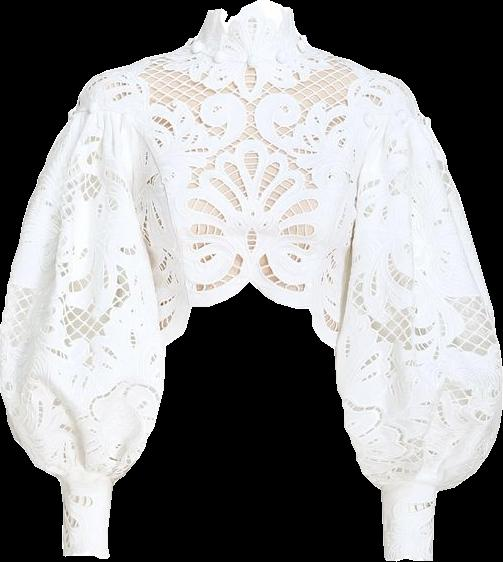Bodice: (74, 0, 418, 350)
Neckline: (205, 0, 291, 25)
Sleeve: (334, 109, 502, 561), (0, 107, 165, 558)
Sleeveline: (351, 104, 422, 226), (73, 103, 141, 228), (58, 471, 116, 486), (378, 478, 439, 492)
Waistline: (160, 278, 340, 349)
